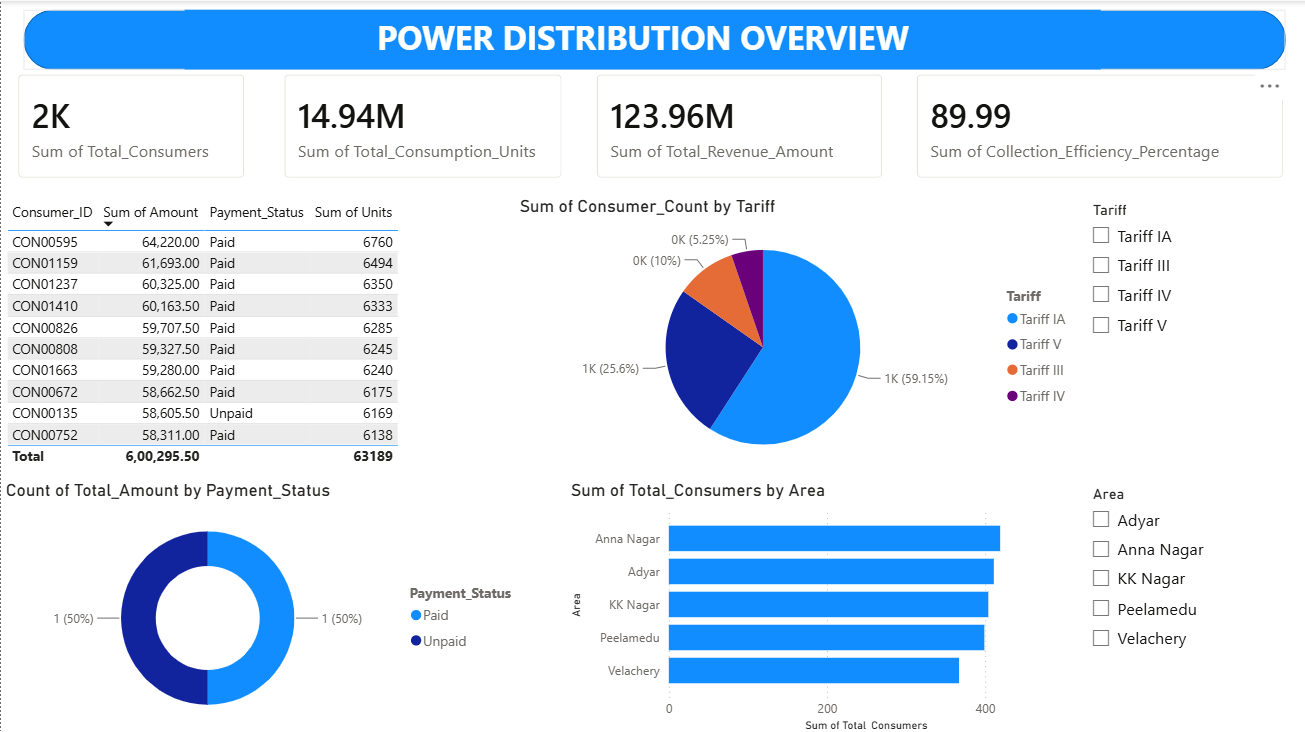

The page's visual inventory and layout, read from the dashboard file:
{"tool":"powerbi","page":{"name":"Page 1","canvas":[1280,720],"ordinal":0},"visuals":[{"type":"cardVisual","fields":{"Data":["Sum(Total_Consumers.Total_Consumers)"]},"box":[0,54.9,255.2,135.8],"z":0},{"type":"cardVisual","fields":{"Data":["Sum(Revenue_Units.Total_Consumption_Units)"]},"box":[260.5,55,305.7,135.7],"z":1000},{"type":"cardVisual","fields":{"Data":["Sum(Revenue_Units.Total_Revenue_Amount)"]},"box":[566.2,55,313,135.7],"z":2000},{"type":"donutChart","fields":{"Category":["Pending_Bills.Payment_Status"],"Y":["CountNonNull(Pending_Bills.Total_Amount)"]},"box":[0,468.3,519.7,251.9],"z":3000},{"type":"barChart","fields":{"Category":["Area_Consumers.Area"],"Y":["Sum(Area_Consumers.Total_Consumers)"]},"box":[552.7,468.3,502.6,251.9],"z":4000},{"type":"pieChart","fields":{"Category":["Tarriff_Consumers.Tariff"],"Y":["Sum(Tarriff_Consumers.Consumer_Count)"]},"box":[502.2,190.7,553,277.2],"z":5000},{"type":"tableEx","fields":{"Values":["VIP_Consumers.Consumer_ID","Sum(VIP_Consumers.Amount)","VIP_Consumers.Payment_Status","Sum(VIP_Consumers.Units)"]},"box":[0,190.8,502.6,277.6],"z":6000},{"type":"cardVisual","fields":{"Data":["Sum(Collection_Efficiency.Collection_Efficiency_Percentage)"]},"box":[879.2,55,392.5,135.7],"z":7000},{"type":"slicer","fields":{"Values":["Area_Consumers.Area"]},"box":[1055.3,468.3,225,251.9],"z":8000},{"type":"slicer","fields":{"Values":["Tarriff_Consumers.Tariff"]},"box":[1055.3,190.8,207.9,277.6],"z":9000},{"type":"shape","box":[22,8.6,1235.1,58.7],"z":11000},{"type":"textbox","box":[179.8,8.6,896.3,58.7],"z":11500}]}

Visuals, with their boxes in screenshot pixels (x1, y1, x2, y2), scaled from the page's 1280x720 canvas onto the 1305x732 screenshot:
cardVisual - Sum(Total_Consumers.Total_Consumers): (0,56,260,194)
cardVisual - Sum(Revenue_Units.Total_Consumption_Units): (266,56,577,194)
cardVisual - Sum(Revenue_Units.Total_Revenue_Amount): (577,56,896,194)
donutChart - Pending_Bills.Payment_Status x CountNonNull(Pending_Bills.Total_Amount): (0,476,530,731)
barChart - Area_Consumers.Area x Sum(Area_Consumers.Total_Consumers): (563,476,1076,731)
pieChart - Tarriff_Consumers.Tariff x Sum(Tarriff_Consumers.Consumer_Count): (512,194,1076,476)
tableEx - VIP_Consumers.Consumer_ID x Sum(VIP_Consumers.Amount): (0,194,512,476)
cardVisual - Sum(Collection_Efficiency.Collection_Efficiency_Percentage): (896,56,1297,194)
slicer - Area_Consumers.Area: (1076,476,1304,731)
slicer - Tarriff_Consumers.Tariff: (1076,194,1288,476)
shape: (22,9,1282,68)
textbox: (183,9,1097,68)
